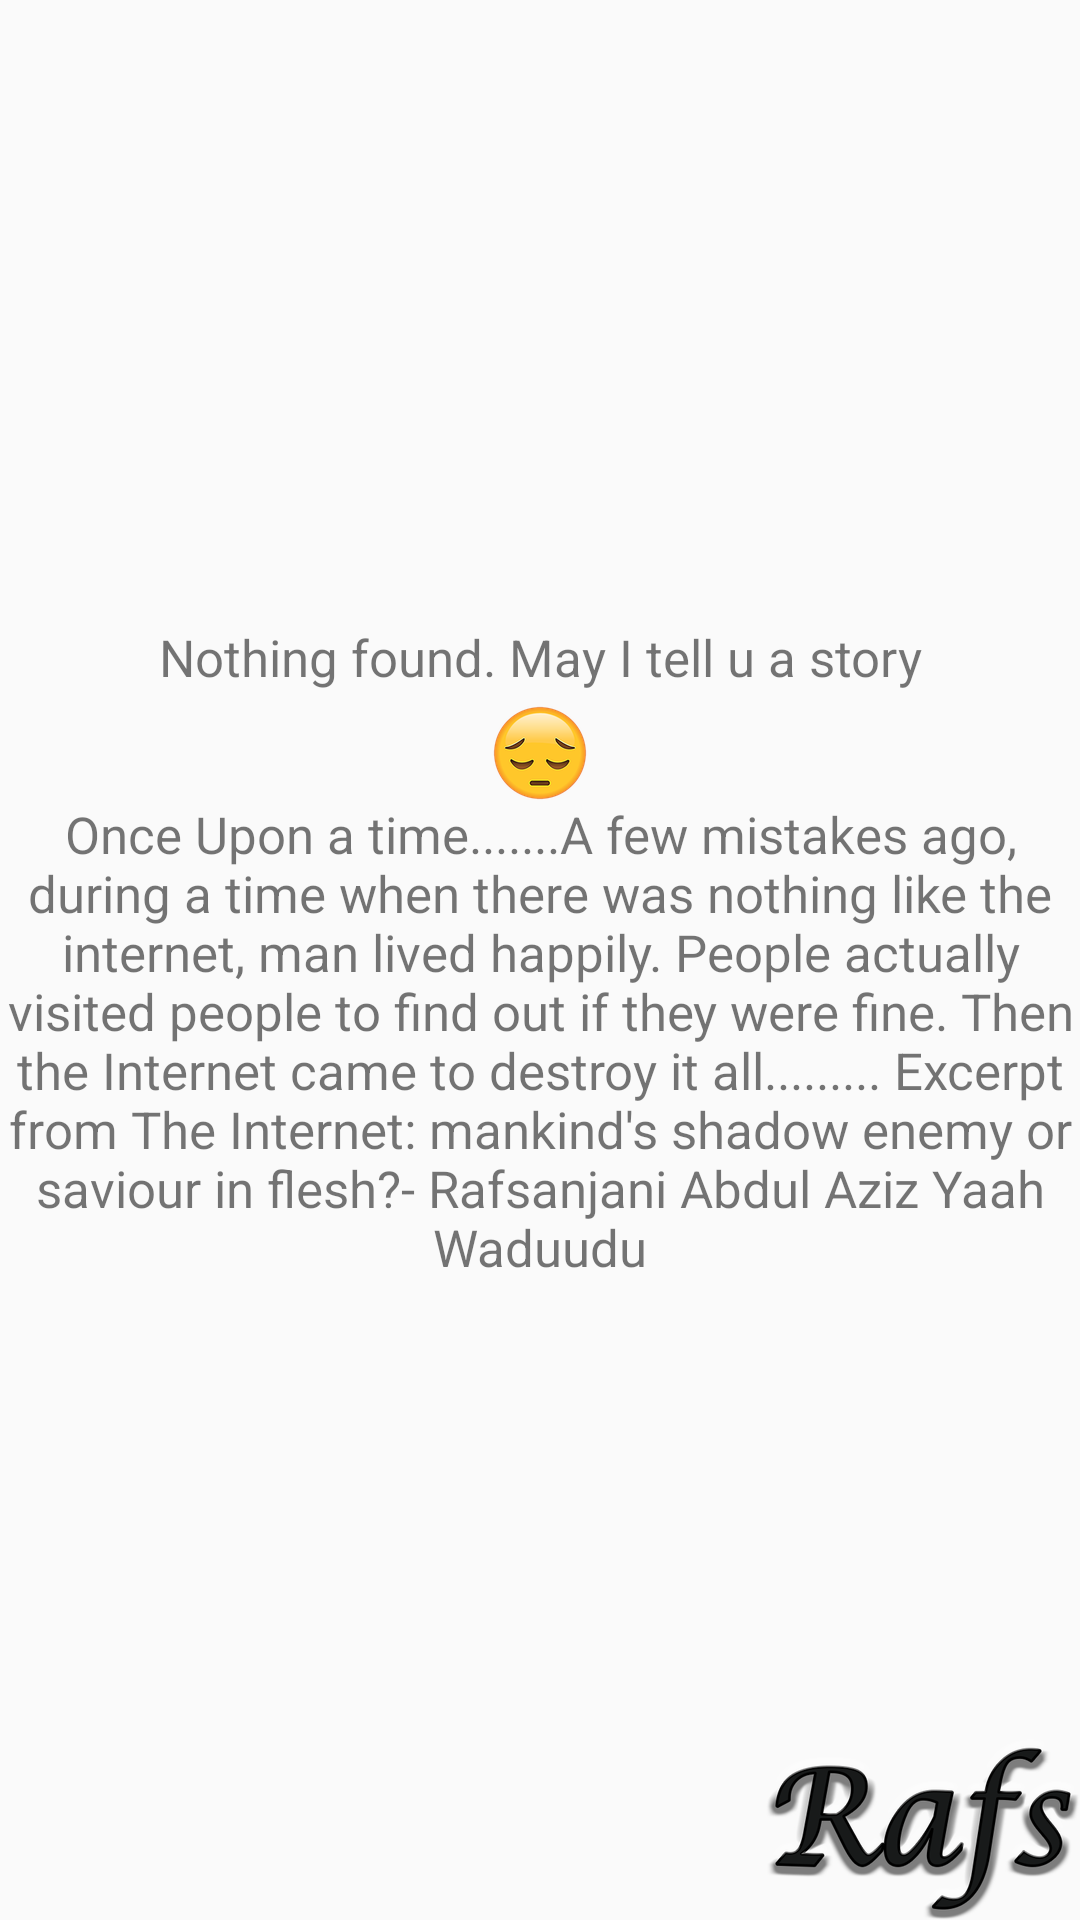

Screen size 1080w x 1920h. Icon name, then its center in pixels as (x=x, y=y):
sad emoji: (x=540, y=753)
